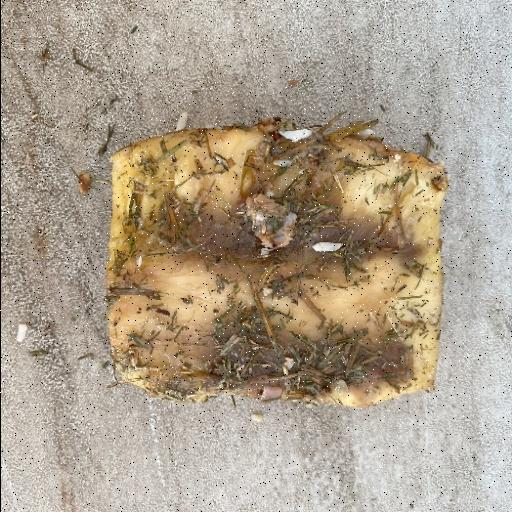Waste: (104, 112, 448, 410)
